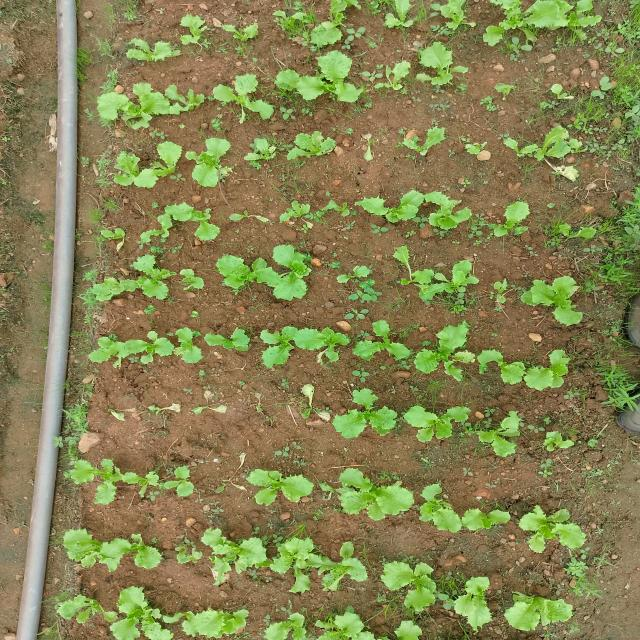Lettuce: (335, 464, 418, 524), (288, 48, 365, 109), (332, 384, 401, 446), (106, 581, 174, 639), (520, 271, 588, 328), (503, 590, 583, 638), (518, 502, 586, 558), (380, 552, 444, 611), (261, 240, 316, 308), (90, 90, 191, 127), (293, 0, 367, 50), (274, 528, 328, 596), (246, 465, 317, 515), (209, 72, 274, 126), (421, 326, 493, 374), (99, 526, 168, 575), (195, 532, 264, 581), (508, 128, 580, 173), (416, 40, 472, 97), (503, 348, 577, 391), (50, 588, 111, 640), (404, 402, 476, 446), (258, 327, 332, 368), (420, 257, 483, 305), (524, 0, 606, 36), (183, 600, 256, 640), (474, 408, 528, 462), (187, 136, 239, 192), (77, 454, 134, 505), (416, 479, 464, 539), (478, 198, 542, 243), (160, 199, 222, 245), (394, 120, 451, 170), (88, 332, 154, 374), (451, 573, 497, 632), (320, 540, 369, 594), (361, 319, 414, 368), (356, 190, 426, 226), (287, 127, 341, 169), (211, 250, 256, 300), (128, 256, 174, 304), (144, 140, 186, 192), (117, 32, 181, 66), (292, 328, 348, 366), (334, 262, 382, 306), (58, 529, 112, 567), (123, 328, 169, 370), (431, 0, 482, 33), (323, 613, 383, 640), (373, 0, 422, 32), (218, 17, 264, 49), (272, 605, 314, 640), (166, 326, 202, 366), (202, 329, 252, 355), (167, 464, 200, 503), (178, 10, 210, 48), (540, 430, 577, 456), (370, 317, 395, 343)
